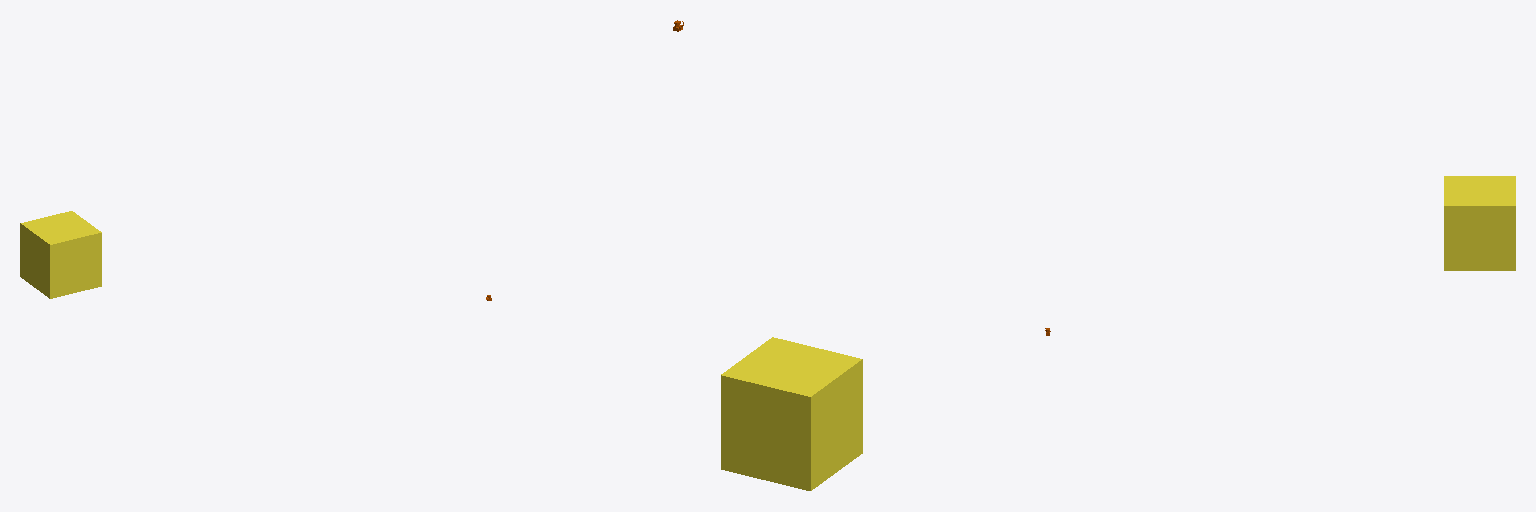
URDF robot description (multisense_sl):
<robot name="multisense_sl">
  <!-- Head Link Simple Collision Meshes -->
  <link name="head">
    <inertial>
      <origin xyz="-0.075493 3.3383E-05 0.02774" rpy="0 0 0" />
      <mass value="1.41984" />
      <inertia iyy="0.0041178" ixy="-1.5797E-06" iyz="-6.8415E-07" ixx="0.0039688" ixz="-0.00089293" izz="0.0035243" />
    </inertial>
<!--     <visual>
      <origin xyz="0 0 0" rpy="0 0 0" />
      <geometry>
        <mesh filename="package://val_description/meshes/multisense/head.dae" />
      </geometry>
      <material name="">
        <color rgba="0.9098 0.44314 0.031373 1" />
      </material>
    </visual> -->
  <collision>
    <origin xyz="-0.0503 0 -0.00195" rpy="0 0 0" />
    <geometry>
      <box size="0.1311 0.12 0.0591"/>
    </geometry>
  </collision>
  <collision>
    <origin xyz="-0.093 0 0.0868" rpy="0 0 0" />
    <geometry>
      <box size="0.0468 0.12 0.1184"/>
    </geometry>
  </collision>
  </link>
  <link name="hokuyo_link">
    <inertial>
      <origin xyz="0.032428 0.0004084 -0.0041835" rpy="0 0 0" />
      <mass value="0.057654" />
      <inertia iyy="4.2412E-05" ixy="4.9927E-08" iyz="-9.8165E-09" ixx="3.7174E-05" ixz="1.1015E-05" izz="4.167E-05" />
    </inertial>
    <visual>
      <!--origin xyz="0.065774 -0.001163 -0.08809" rpy="0 0 0" /-->
      <!--origin xyz="0.045 -0.001163 -0.08809" rpy="-0.314 0 0" /-->
      <origin xyz="0.045 -0.0261018277 -0.08342369" rpy="-0.314 0 0" />
      <geometry>
        <mesh filename="package://val_description/meshes/multisense/head_camera.dae" />
      </geometry>
      <material name="">
        <color rgba="0.72941 0.35686 0.023529 1" />
      </material>
    </visual>
  <collision>
    <origin xyz="0.01885 0 -0.02119" rpy="0 0 0" />
    <geometry>
      <box size="0.08 0.06 0.04238"/>
    </geometry>
  </collision>
  <collision>
    <origin xyz="0.03 0 0.0235" rpy="0 0 0" />
    <geometry>
      <cylinder radius="0.024425" length="0.047"/>
    </geometry>
  </collision>
  </link>
  <gazebo reference="head">
    <mu1>0.9</mu1>
    <mu2>0.9</mu2>
  </gazebo>
  <gazebo reference="hokuyo_link">
    <mu1>0.9</mu1>
    <mu2>0.9</mu2>
  </gazebo>

  <joint name="hokuyo_joint" type="continuous">
    <origin xyz="-0.0446 0 0.0880" rpy="0 0 0" />
    <parent link="head" />
    <child link="hokuyo_link" />
    <axis xyz="1 0 0" />
    <dynamics damping="0.01" friction="0"/>
  </joint>
  <gazebo reference="hokuyo_joint">
    <implicitSpringDamper>1</implicitSpringDamper>
  </gazebo>

  <!-- Hokuyo Laser -->
  <joint name="head_hokuyo_joint" type="fixed">
    <axis xyz="0 1 0" />
    <origin xyz="0.03 0 0.015" rpy="0 0 0"/>
    <parent link="hokuyo_link"/>
    <child link="head_hokuyo_frame"/>
  </joint>
  <link name="head_hokuyo_frame">
    <inertial>
      <mass value="1e-5" />
      <!-- collocate with parent link and remove mass from it -->
      <origin xyz="0.042428 0.0004084 0.0108165" rpy="0 0 0"/>
      <inertia ixx="1e-6" ixy="0" ixz="0" iyy="1e-6" iyz="0" izz="1e-6" />
    </inertial>
  </link>
  <gazebo reference="head_hokuyo_frame">
    <sensor type="gpu_ray" name="head_hokuyo_sensor">
      <pose>0 0 0 0 0 0</pose>
      <visualize>false</visualize>
      <update_rate>40</update_rate>
      <ray>
        <scan>
          <horizontal>
            <samples>1081</samples>
            <resolution>1</resolution>
            <min_angle>-2.356194</min_angle>
            <max_angle>2.356194</max_angle>
          </horizontal>
        </scan>
        <range>
          <min>0.10</min>
          <max>30.0</max>
          <resolution>0.01</resolution>
        </range>
        <noise>
          <type>gaussian</type>
          <!-- Noise parameters based on published spec for Hokuyo laser
               achieving "+-30mm" accuracy at range < 10m.  A mean of 0.0m and
               stddev of 0.01m will put 99.7% of samples within 0.03m of the true
               reading. -->
          <mean>0.0</mean>
          <stddev>0.01</stddev>
        </noise>
      </ray>
    </sensor>
  </gazebo>
  <!-- Stereo Camera -->
  <joint name="left_camera_frame_joint" type="fixed">
    <!-- optical frame collocated with tilting DOF -->
    <origin xyz="0.0 0.035 -0.002"/>
    <parent link="head"/>
    <child link="left_camera_frame"/>
  </joint>
  <link name="left_camera_frame">
    <inertial>
      <mass value="1e-5" />
      <!-- collocate with parent link and remove mass from it -->
      <origin xyz="-0.075493 0.035033383 0.02574"/>
      <inertia ixx="1e-6" ixy="0" ixz="0" iyy="1e-6" iyz="0" izz="1e-6" />
    </inertial>
  </link>
  <joint name="left_camera_optical_frame_joint" type="fixed">
    <origin xyz="0 0 0" rpy="-1.5708 0.0 -1.5708" />
    <parent link="left_camera_frame" />
    <child link="left_camera_optical_frame"/>
  </joint>
  <link name="left_camera_optical_frame"/>
  <gazebo reference="left_camera_frame">
    <sensor type="multicamera" name="stereo_camera">
      <!-- see MultiSenseSLPlugin.h for available modes -->
      <update_rate>10.0</update_rate>
      <camera name="left">
        <!-- Spec sheet says 80deg X 45deg @ 1024x544pix.  Based on feedback
             from teams, we're instead doing 80deg X 80deg @ 800x800pix. -->
        <horizontal_fov>1.3962634</horizontal_fov>
        <image>
          <width>1024</width>
          <height>544</height>
          <format>R8G8B8</format>
        </image>
        <clip>
          <near>0.02</near>
          <far>300</far>
        </clip>
        <noise>
          <type>gaussian</type>
          <!-- Noise is sampled independently per pixel on each frame.  
               That pixel's noise value is added to each of its color
               channels, which at that point lie in the range [0,1].
               The stddev value of 0.007 is based on experimental data 
               from a camera in a Sandia hand pointed at a static scene
               in a couple of different lighting conditions.  -->
          <mean>0.0</mean>
          <stddev>0.007</stddev>
        </noise>
      </camera>
      <camera name="right">
        <pose>0 -0.07 0 0 0 0</pose>
        <!-- Spec sheet says 80deg X 45deg @ 1024x544pix. -->
        <horizontal_fov>1.3962634</horizontal_fov>
        <image>
          <width>1024</width>
          <height>544</height>
          <format>R8G8B8</format>
        </image>
        <clip>
          <near>0.02</near>
          <far>300</far>
        </clip>
        <noise>
          <type>gaussian</type>
          <!-- Noise is sampled independently per pixel on each frame.  
               That pixel's noise value is added to each of its color
               channels, which at that point lie in the range [0,1].
               The stddev value of 0.007 is based on experimental data 
               from a camera in a Sandia hand pointed at a static scene
               in a couple of different lighting conditions.  -->
          <mean>0.0</mean>
          <stddev>0.007</stddev>
        </noise>
      </camera>
    </sensor>
  </gazebo>


  <joint name="right_camera_frame_joint" type="fixed">
    <origin xyz="0.0 -0.035 -0.002"/>
    <parent link="head"/>
    <child link="right_camera_frame"/>
  </joint>
  <link name="right_camera_frame">
    <inertial>
      <mass value="1e-5" />
      <!-- collocate with parent link and remove mass from it -->
      <origin xyz="-0.075493 -0.034966617 0.02574"/>
      <inertia ixx="1e-6" ixy="0" ixz="0" iyy="1e-6" iyz="0" izz="1e-6" />
    </inertial>
  </link>
  <joint name="right_camera_optical_frame_joint" type="fixed">
    <origin xyz="0 0 0" rpy="-1.5708 0.0 -1.5708" />
    <parent link="right_camera_frame" />
    <child link="right_camera_optical_frame"/>
  </joint>
  <link name="right_camera_optical_frame"/>

  <joint name="center_top_led_frame_joint" type="fixed">
    <origin xyz="0.01125 0.0 0.0105"/>
    <parent link="head"/>
    <child link="center_top_led_frame"/>
  </joint>
  <link name="center_top_led_frame">
    <inertial>
      <mass value="1e-5" />
      <!-- collocate with parent link and remove mass from it -->
      <origin xyz="-0.064243 0.000033383 0.03824" rpy="0 0 0" />
      <inertia ixx="1e-6" ixy="0" ixz="0" iyy="1e-6" iyz="0" izz="1e-6" />
    </inertial>
  </link>
  <joint name="center_bottom_led_frame_joint" type="fixed">
    <origin xyz="0.01125 0.0 -0.0155"/>
    <parent link="head"/>
    <child link="center_bottom_led_frame"/>
  </joint>
  <link name="center_bottom_led_frame">
    <inertial>
      <mass value="1e-5" />
      <!-- collocate with parent link and remove mass from it -->
      <origin xyz="-0.064243 0.000033383 0.01224" rpy="0 0 0" />
      <inertia ixx="1e-6" ixy="0" ixz="0" iyy="1e-6" iyz="0" izz="1e-6" />
    </inertial>
  </link>
  <joint name="left_led_frame_joint" type="fixed">
    <origin xyz="-0.01443 0.07452 0.050346" rpy="0 -0.15 0.53"/>
    <parent link="head"/>
    <child link="left_led_frame"/>
  </joint>
  <link name="left_led_frame">
    <inertial>
      <mass value="1e-5" />
      <!-- collocate with parent link and remove mass from it -->
      <origin xyz="-0.089923 0.074553383 0.078086" rpy="0 -0.15 0.53" />
      <inertia ixx="1e-6" ixy="0" ixz="0" iyy="1e-6" iyz="0" izz="1e-6" />
    </inertial>
  </link>
  <joint name="right_led_frame_joint" type="fixed">
    <origin xyz="-0.01443 -0.07452 0.050346" rpy="0 -0.15 -0.53"/>
    <parent link="head"/>
    <child link="right_led_frame"/>
  </joint>
  <link name="right_led_frame">
    <inertial>
      <mass value="1e-5" />
      <!-- collocate with parent link and remove mass from it -->
      <origin xyz="-0.089923 -0.074486617 0.07908" rpy="0 -0.15 -0.53" />
      <inertia ixx="1e-6" ixy="0" ixz="0" iyy="1e-6" iyz="0" izz="1e-6" />
    </inertial>
  </link>

  <!-- imu link -->
  <link name="head_imu_link">
    <inertial>
      <mass value="1e-5" />
      <!-- collocate with parent link and remove mass from it -->
      <origin xyz="-0.122993 0.035033383 0.02774" rpy="0 0 0" />
      <inertia ixx="1e-6" ixy="0" ixz="0" iyy="1e-6" iyz="0" izz="1e-6" />
    </inertial>
    <visual>
      <origin rpy="0 0 0" xyz="0 0 0"/>
      <geometry>
        <box size="0.01 0.01 0.01"/>
      </geometry>
    </visual>
  </link>
  <joint name="head_imu_joint" type="fixed">
    <parent link="head"/>
    <child link="head_imu_link"/>
    <!-- putting it at the same z-level as the stereo -->
    <origin xyz="-0.0475 0.035 0.0" rpy="0 0 0"/>
  </joint>
  <gazebo reference="head_imu_link">
    <!-- this is expected to be reparented to head with appropriate offset
         when head_imu_link is reduced by fixed joint reduction -->
    <!-- todo: this is working with gazebo 1.4, need to write a unit test -->
    <sensor name="head_imu_sensor" type="imu">
      <always_on>1</always_on>
      <update_rate>1000.0</update_rate>
      <imu>
        <noise>
          <type>gaussian</type>
          <!-- Noise parameters from Boston Dynamics
               (http://gazebosim.org/wiki/Sensor_noise):
                 rates (rad/s): mean=0, stddev=2e-4
                 accels (m/s/s): mean=0, stddev=1.7e-2
                 rate bias (rad/s): 5e-6 - 1e-5
                 accel bias (m/s/s): 1e-1
               Experimentally, simulation provide rates with noise of
               about 1e-3 rad/s and accels with noise of about 1e-1 m/s/s.
               So we don't expect to see the noise unless number of inner iterations
               are increased.

               We will add bias.  In this model, bias is sampled once for rates
               and once for accels at startup; the sign (negative or positive)
               of each bias is then switched with equal probability.  Thereafter,
               the biases are fixed additive offsets.  We choose
               bias means and stddevs to produce biases close to the provided
               data. -->
          <rate>
            <mean>0.0</mean>
            <stddev>2e-4</stddev>
            <bias_mean>0.0000075</bias_mean>
            <bias_stddev>0.0000008</bias_stddev>
          </rate>
          <accel>
            <mean>0.0</mean>
            <stddev>1.7e-2</stddev>
            <bias_mean>0.1</bias_mean>
            <bias_stddev>0.001</bias_stddev>
          </accel>
        </noise>
      </imu>
    </sensor>
  </gazebo>
</robot>

--- Facts derived from the render (not from the file) ---
3 views of the same robot in one strip: view 1: azimuth 30°, elevation 25°; view 2: azimuth 150°, elevation 25°; view 3: azimuth 270°, elevation 25° (orthographic).
Model multisense_sl with 12 links and 11 joints (1 continuous, 10 fixed), rooted at head, posed all joints at 0.
Links seen in each view (by area): view 1: head_imu_link; view 2: head_imu_link; view 3: head_imu_link.
Boxes of the visible links, x1=… form: head_imu_link: x1=20, y1=211, x2=101, y2=298; head_imu_link: x1=721, y1=337, x2=862, y2=490; head_imu_link: x1=1444, y1=176, x2=1515, y2=270.
Bounding box of the posed robot: 0.0531 × 0.0663 × 0.0109 m (x, y, z).
1 mesh visuals loaded from 1 distinct referenced files (1 Collada DAE).
